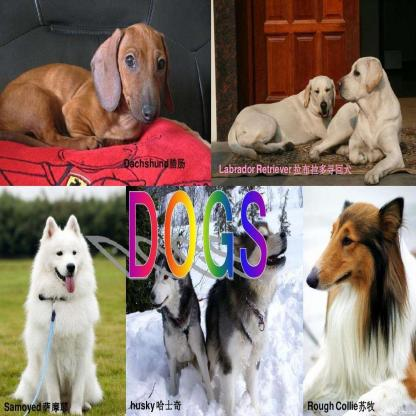Labarador Retriever: (312, 49, 405, 176), (226, 69, 335, 160)
